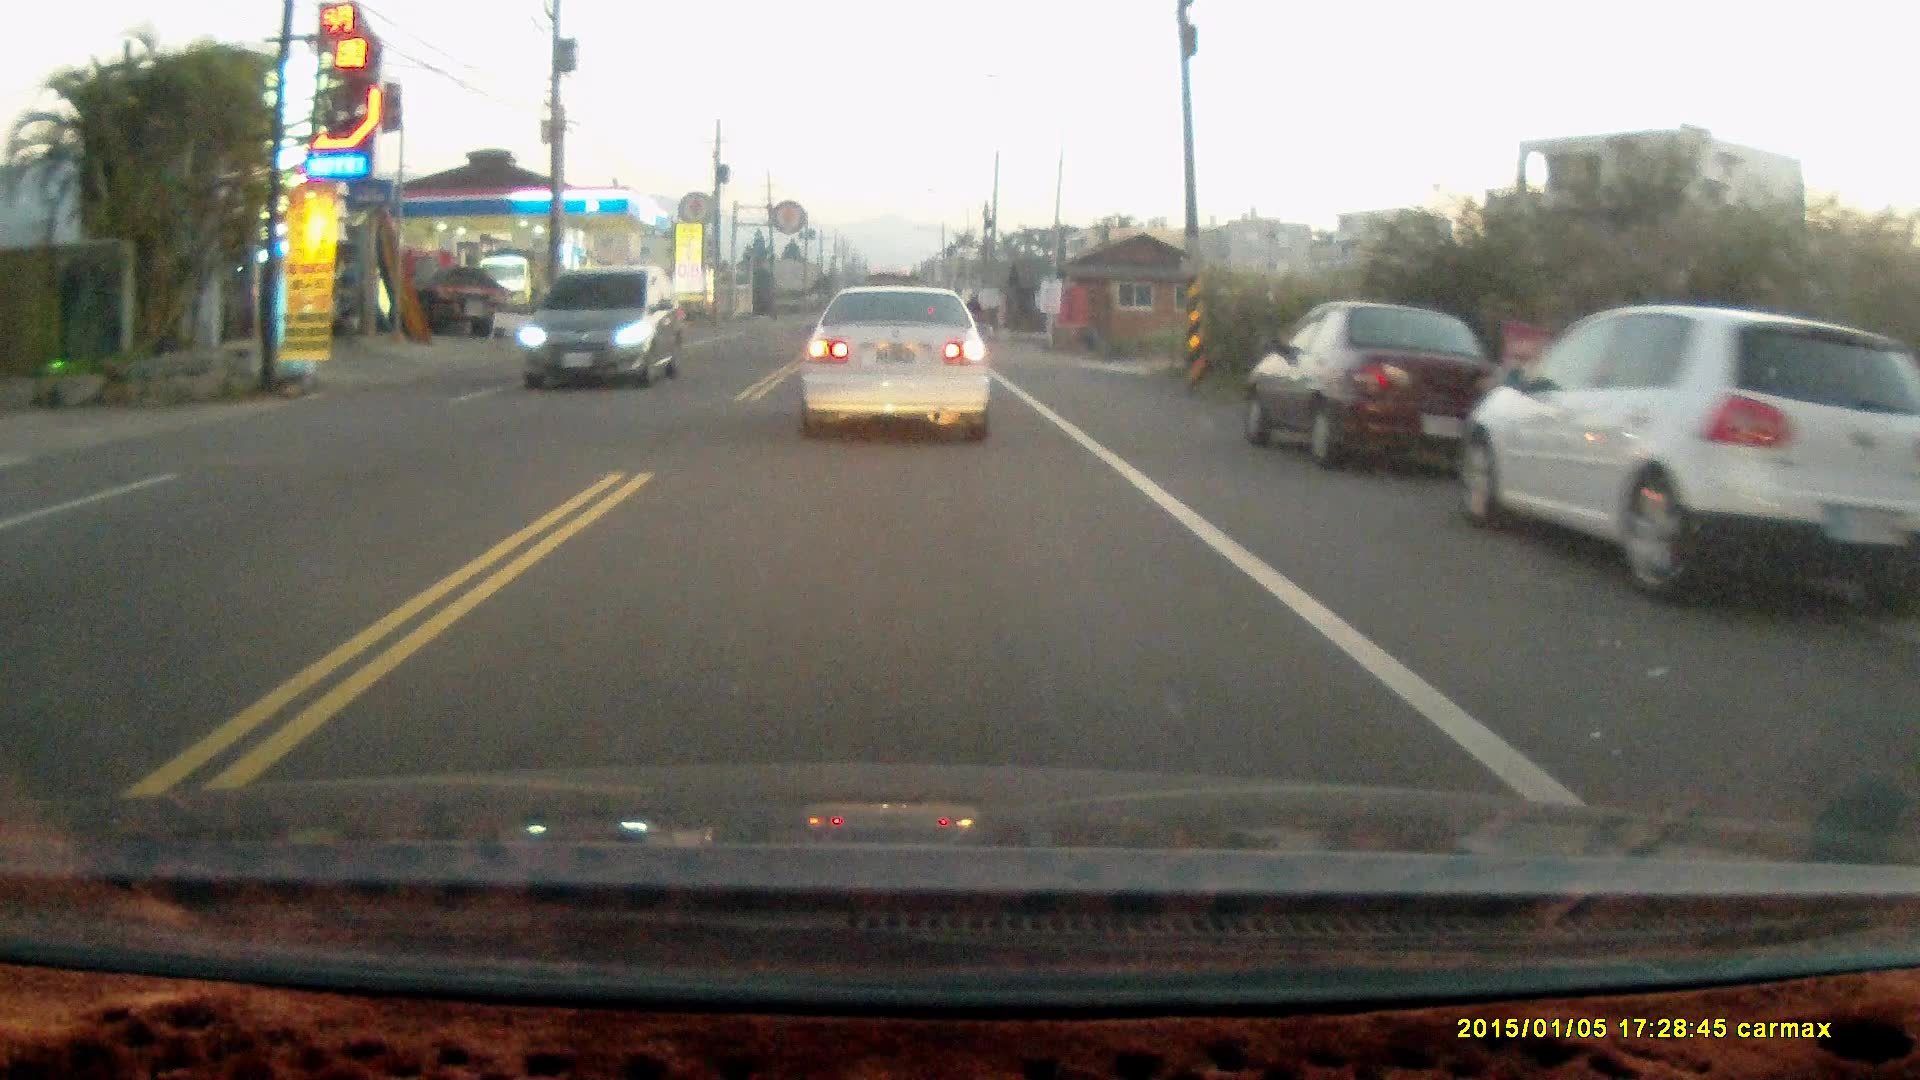vehicle: (1458, 305, 1905, 600), (1245, 305, 1518, 467), (796, 280, 996, 444), (524, 266, 687, 394)
